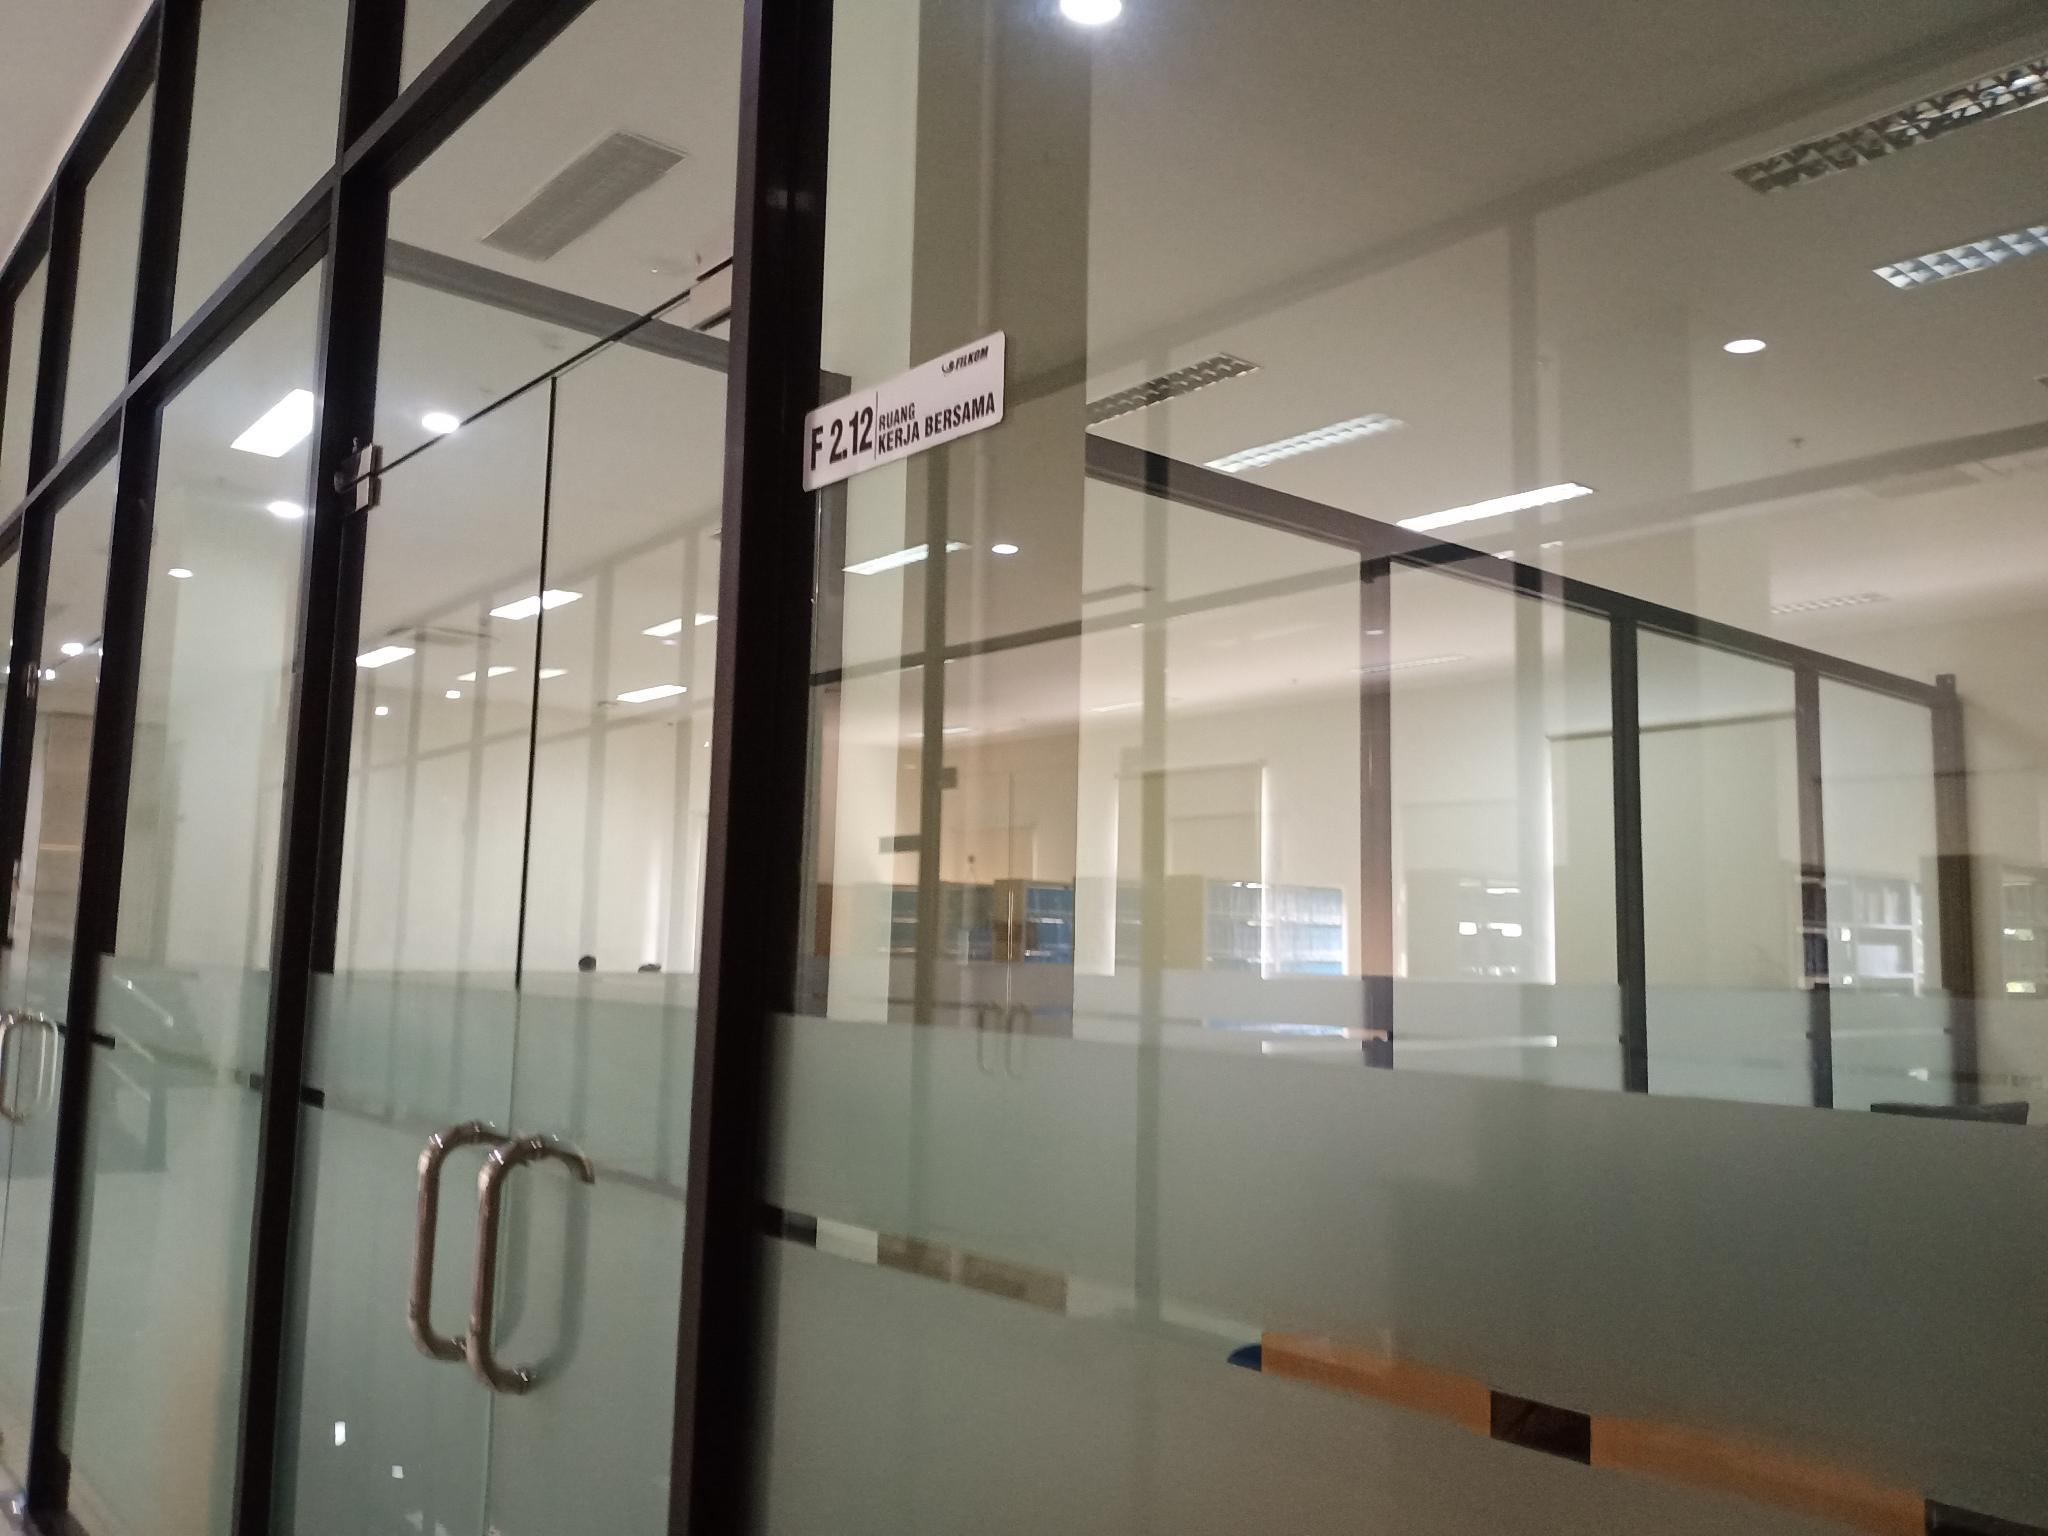plate: (795, 329, 1008, 494)
